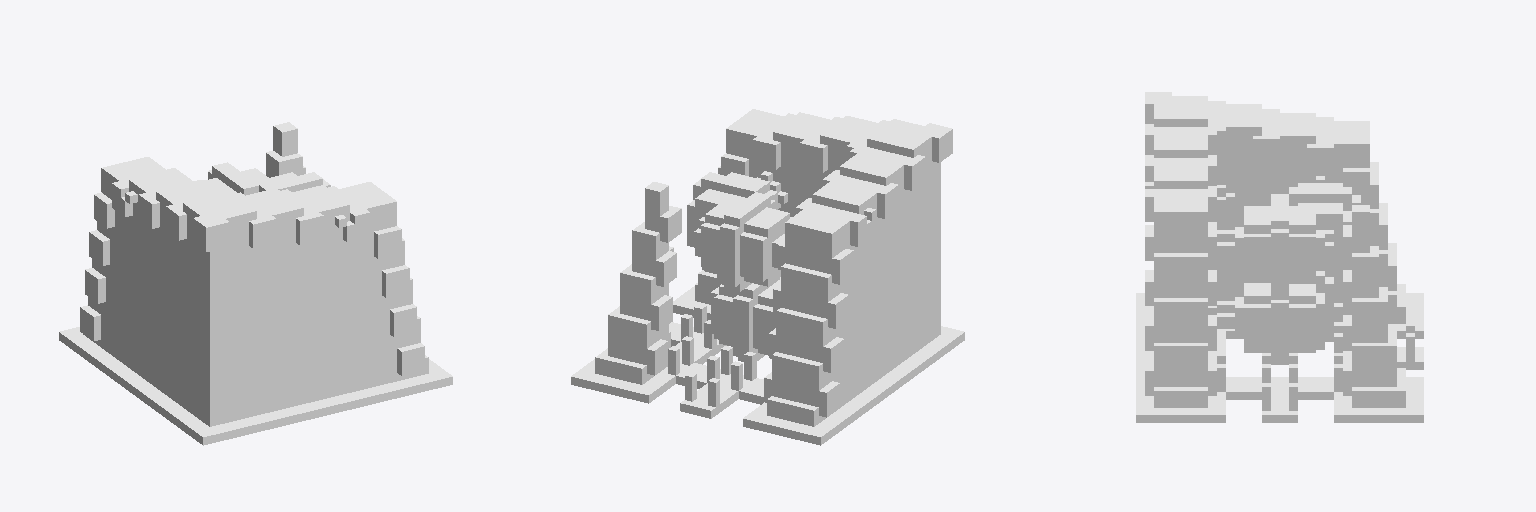
File: barracks2_lowLevel.obj
3 views of the same model, side by side, from view 1: azimuth 30°, elevation 25°; view 2: azimuth 150°, elevation 25°; view 3: azimuth 270°, elevation 25° (orthographic).
Parts seen in each view (by area): view 1: object 1; view 2: object 1; view 3: object 1.
Boxes of the visible parts, x1=… form: object 1: x1=59, y1=122, x2=452, y2=445; object 1: x1=571, y1=109, x2=964, y2=445; object 1: x1=1136, y1=92, x2=1423, y2=422.
Bounding box in the file's own units: 3.2 × 2.6 × 3.2.